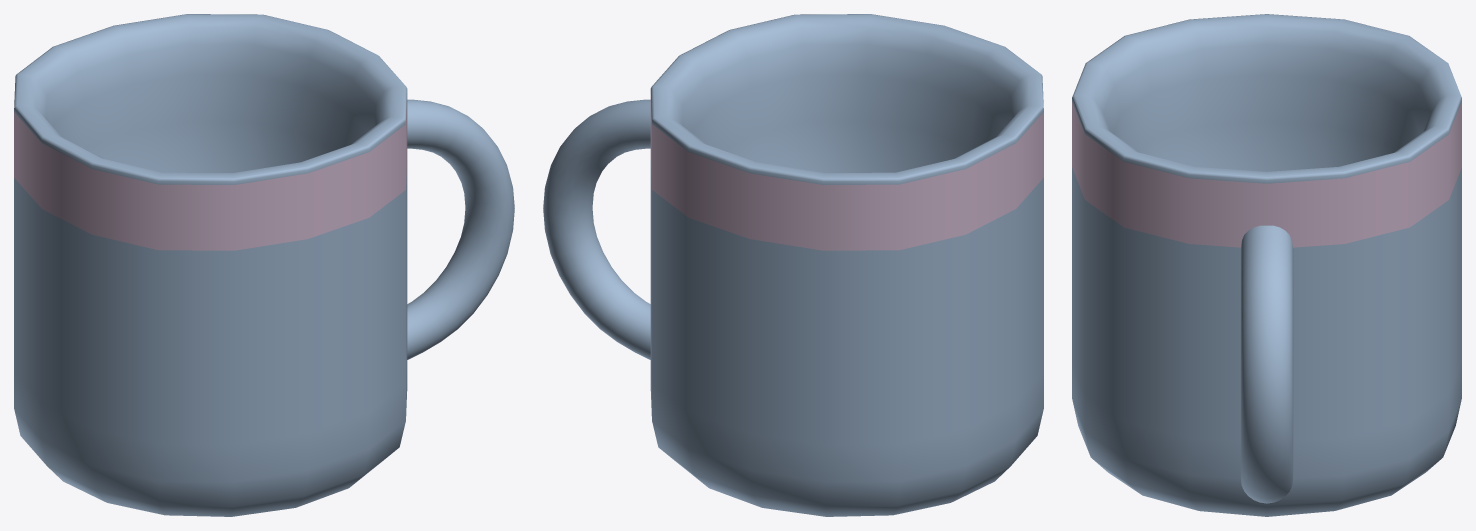
File: prop_cup_1.fbx
3 renders of one model, left to right at view 1: azimuth 30°, elevation 25°; view 2: azimuth 150°, elevation 25°; view 3: azimuth 270°, elevation 25°, orthographic.
Parts seen in each view (by area): view 1: Taza 1; view 2: Taza 1; view 3: Taza 1.
Boxes of the visible parts, <box> form: Taza 1: <box>14,14,514,516</box>; Taza 1: <box>543,14,1043,516</box>; Taza 1: <box>1072,14,1461,516</box>.
Bounding box in the file's own units: 11.26 × 8.52 × 8.1.
